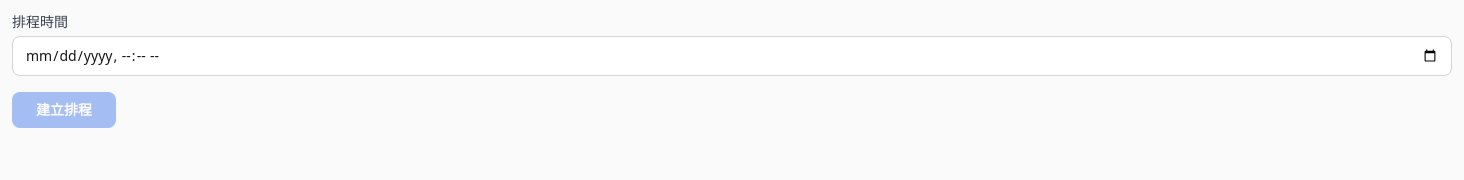
Test: ScheduleForm — 排程發文表單 › shows success message after schedule created
Step 1. Type "2026-07-01T09:00" into the field labelled "排程時間" → (732,56), box [12, 36, 1452, 76]
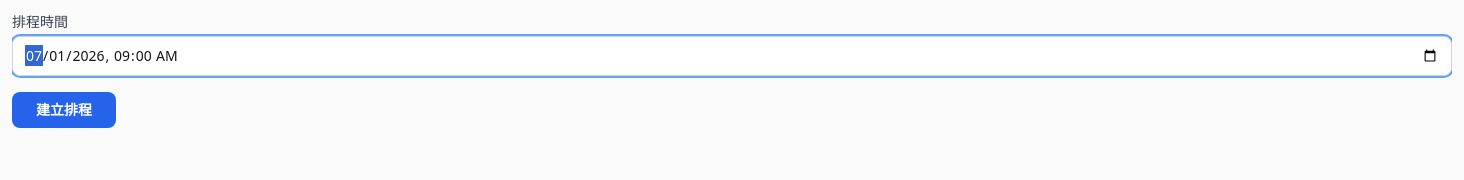
Step 2. Click the button "建立排程" → (64,110), box [12, 92, 116, 128]
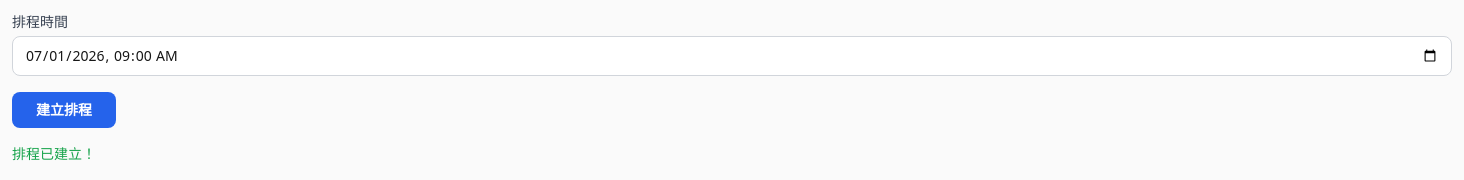
Expected: the text "排程已建立！" is shown, [12, 144, 96, 163]
